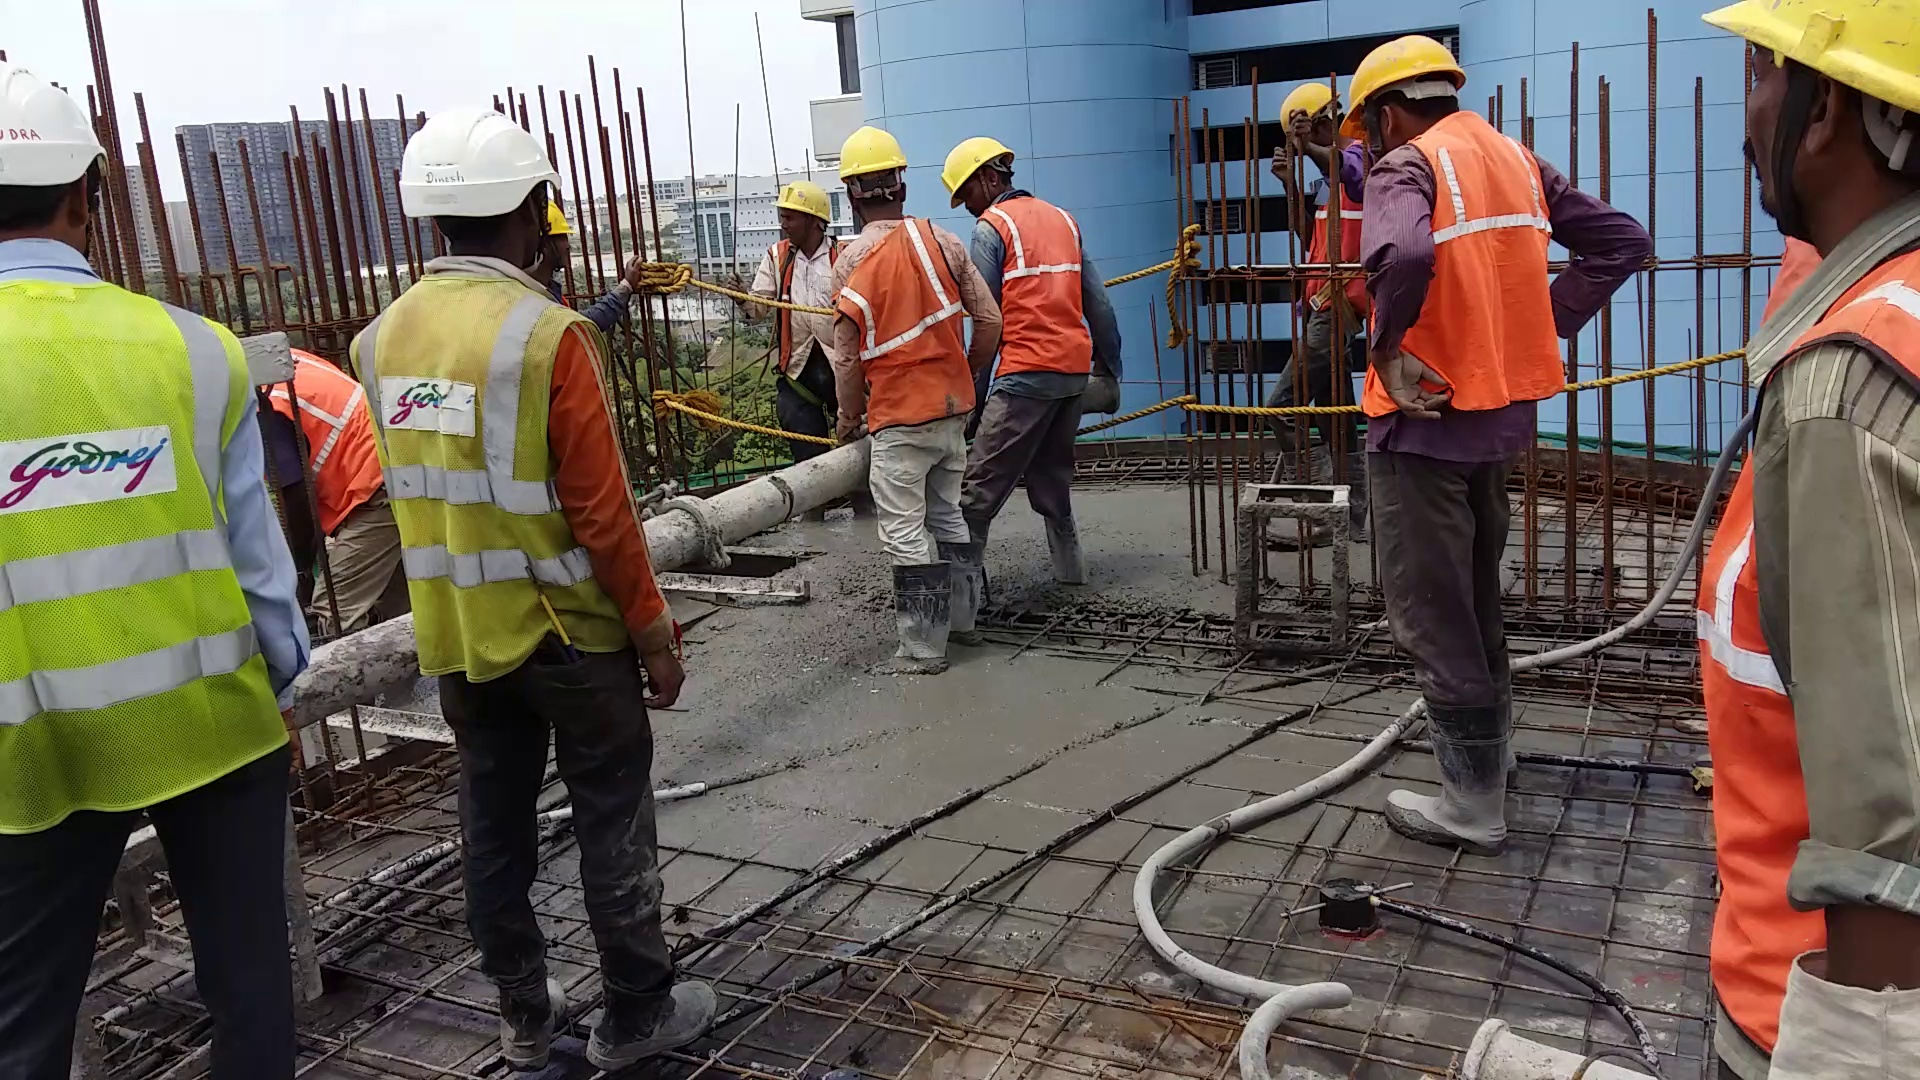SAFE: (1695, 1, 1920, 1021), (1, 58, 225, 816), (367, 105, 579, 655), (1353, 30, 1545, 430), (841, 123, 952, 426), (967, 128, 1093, 382), (761, 182, 833, 393)
